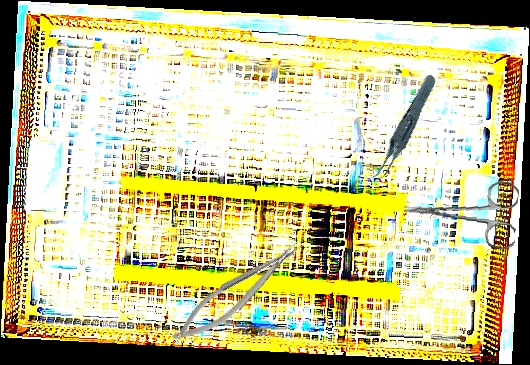Iris Scissors: (401, 173, 520, 250)
Needle Holder: (164, 234, 312, 352)
Tissue Forceps: (349, 72, 456, 186)
